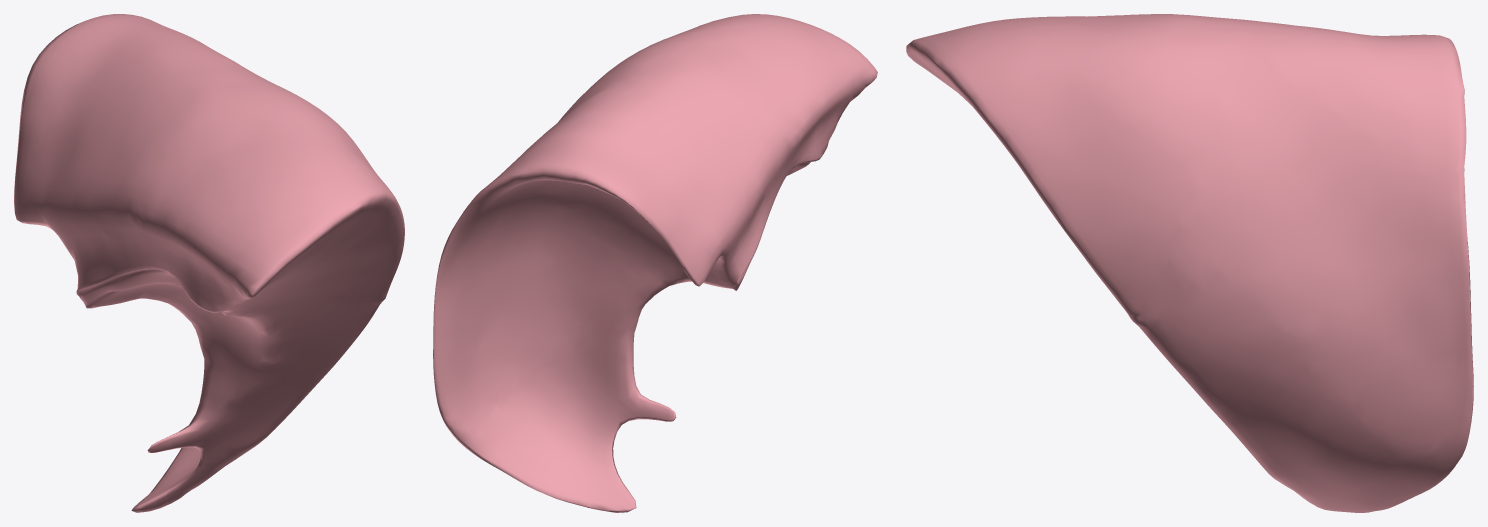
The picture shows the model from 3 angles, left to right: view 1: azimuth 30°, elevation 25°; view 2: azimuth 150°, elevation 25°; view 3: azimuth 270°, elevation 25°; orthographic projection. The views are drawn at different scales.
Parts seen in each view (by area): view 1: 左肺下叶; view 2: 左肺下叶; view 3: 左肺下叶.
Boxes of the visible parts, x1=… form: 左肺下叶: x1=14, y1=14, x2=404, y2=512; 左肺下叶: x1=433, y1=14, x2=877, y2=512; 左肺下叶: x1=906, y1=14, x2=1473, y2=512.
Size of the model in its own units: 0.1642 by 0.268 by 0.2851.
